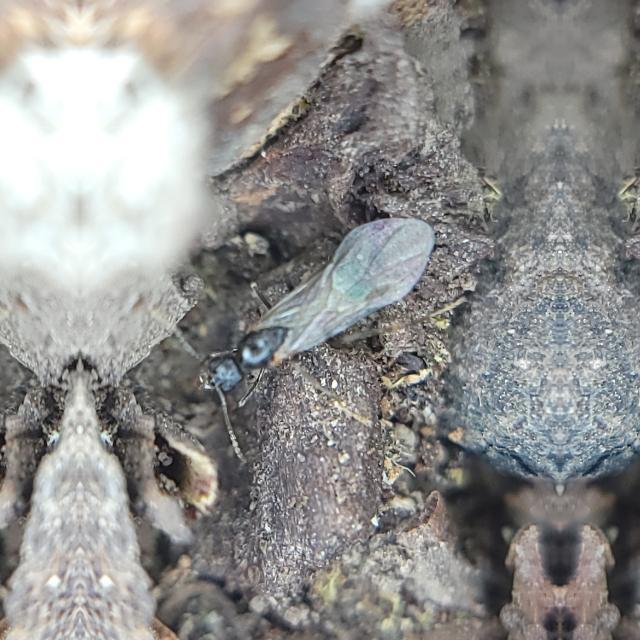Apheanogaster: (176, 196, 434, 440)
